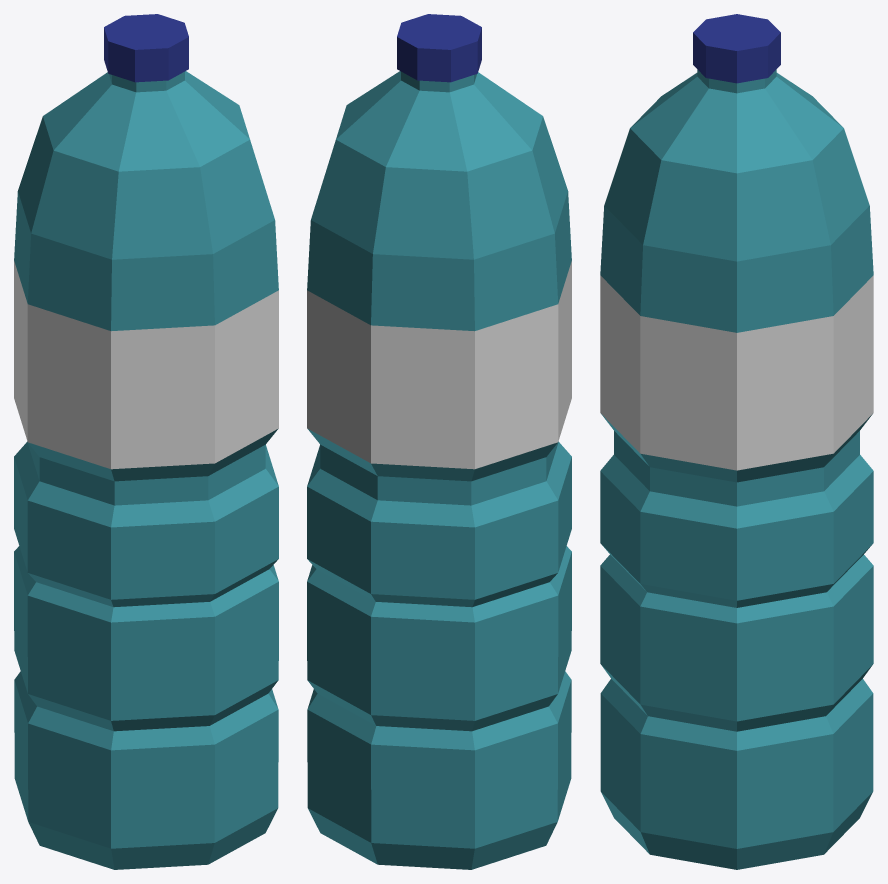
Rendered from Ma_Water.fbx.
The picture shows the model from 3 angles, left to right: view 1: azimuth 30°, elevation 25°; view 2: azimuth 150°, elevation 25°; view 3: azimuth 270°, elevation 25°; orthographic projection.
Visible parts, largest first — view 1: Ma_Water; view 2: Ma_Water; view 3: Ma_Water.
Boxes of the visible parts, x1=… form: Ma_Water: x1=14, y1=14, x2=278, y2=869; Ma_Water: x1=307, y1=14, x2=571, y2=869; Ma_Water: x1=600, y1=14, x2=873, y2=869.
Bounding box in the file's own units: 96.82 × 96.82 × 311.
